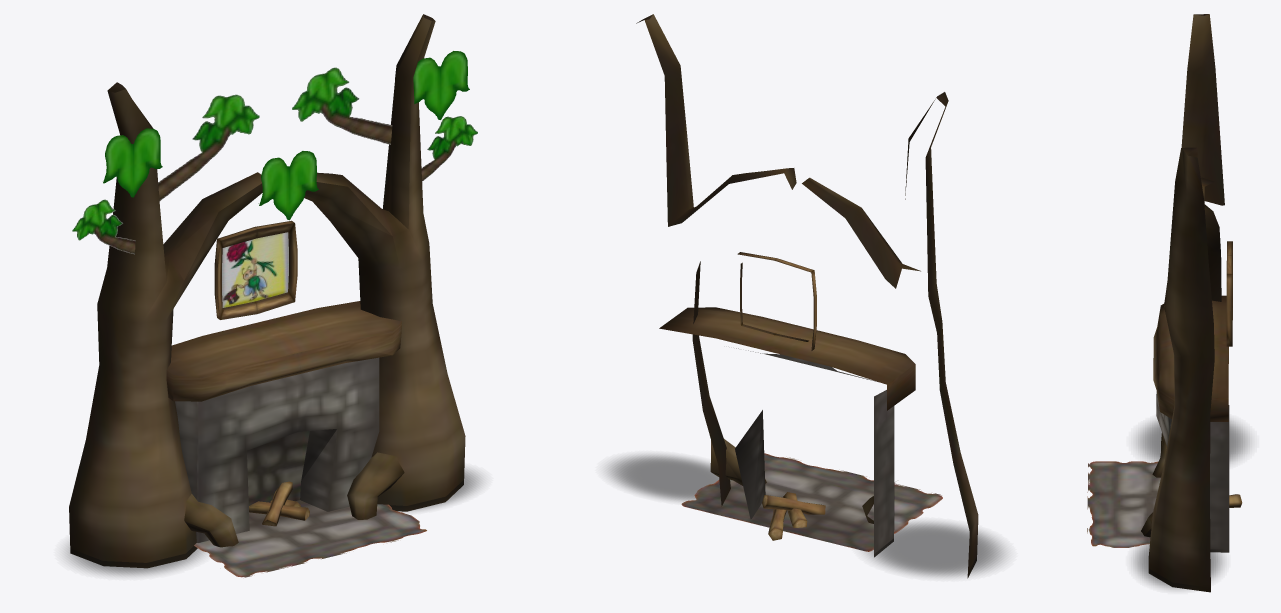
File: bugRoomFireplace.glb
The picture shows the model from 3 angles, left to right: view 1: azimuth 30°, elevation 25°; view 2: azimuth 150°, elevation 25°; view 3: azimuth 270°, elevation 25°; orthographic projection. The views are drawn at different scales.
Parts seen in each view (by area): view 1: RightTree, LeftTree, Fireplace, FireplaceTop, Hearth, Painting, FireplaceBack, BigBranchRight, BigBranchLeft, PaintingFrame, RightLeaf, MiddleLeaf (+7 smaller); view 2: Hearth, FireplaceTop, LeftTree, RightTree, Fireplace, FireplaceShadow1, FireplaceShadow2, PaintingFrame, FireWood2, LeftRoot; view 3: LeftTree, RightTree, Hearth, FireplaceTop, Fireplace, FireplaceShadow1, FireplaceShadow2, PaintingFrame, RightRoot.
Part boxes in pixels (x1=…): RightTree: x1=69, y1=82, x2=262, y2=568; LeftTree: x1=304, y1=14, x2=465, y2=511; Fireplace: x1=175, y1=357, x2=379, y2=542; FireplaceTop: x1=166, y1=301, x2=401, y2=401; Hearth: x1=194, y1=500, x2=426, y2=577; Painting: x1=222, y1=232, x2=288, y2=307; FireplaceBack: x1=247, y1=431, x2=309, y2=505; BigBranchRight: x1=158, y1=94, x2=259, y2=200; BigBranchLeft: x1=292, y1=67, x2=392, y2=144; PaintingFrame: x1=214, y1=220, x2=297, y2=319; RightLeaf: x1=103, y1=128, x2=162, y2=197; MiddleLeaf: x1=258, y1=151, x2=318, y2=220; Hearth: x1=681, y1=453, x2=942, y2=551; FireplaceTop: x1=659, y1=307, x2=915, y2=410; LeftTree: x1=636, y1=14, x2=796, y2=506; RightTree: x1=802, y1=92, x2=978, y2=578; Fireplace: x1=735, y1=348, x2=894, y2=557; FireplaceShadow1: x1=865, y1=521, x2=1005, y2=576; FireplaceShadow2: x1=606, y1=454, x2=719, y2=501; PaintingFrame: x1=737, y1=252, x2=816, y2=350; FireWood2: x1=762, y1=495, x2=825, y2=514; LeftRoot: x1=710, y1=439, x2=766, y2=485; LeftTree: x1=1148, y1=147, x2=1214, y2=592; RightTree: x1=1161, y1=14, x2=1224, y2=450; Hearth: x1=1087, y1=461, x2=1160, y2=547; FireplaceTop: x1=1153, y1=295, x2=1228, y2=421; Fireplace: x1=1156, y1=392, x2=1229, y2=552; FireplaceShadow1: x1=1136, y1=420, x2=1249, y2=463; FireplaceShadow2: x1=1133, y1=544, x2=1223, y2=589; PaintingFrame: x1=1226, y1=241, x2=1232, y2=346; RightRoot: x1=1152, y1=436, x2=1166, y2=477.
Size of the model in its own units: 12.17 by 12.54 by 4.75.
4 materials, 4 textured.
